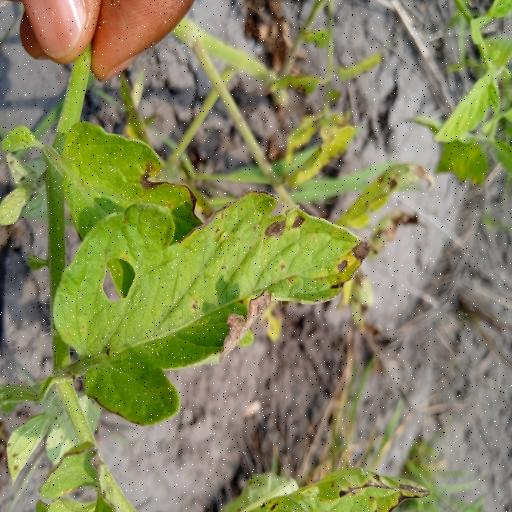Tomato_Brown_Spots: (52, 189, 381, 427)
